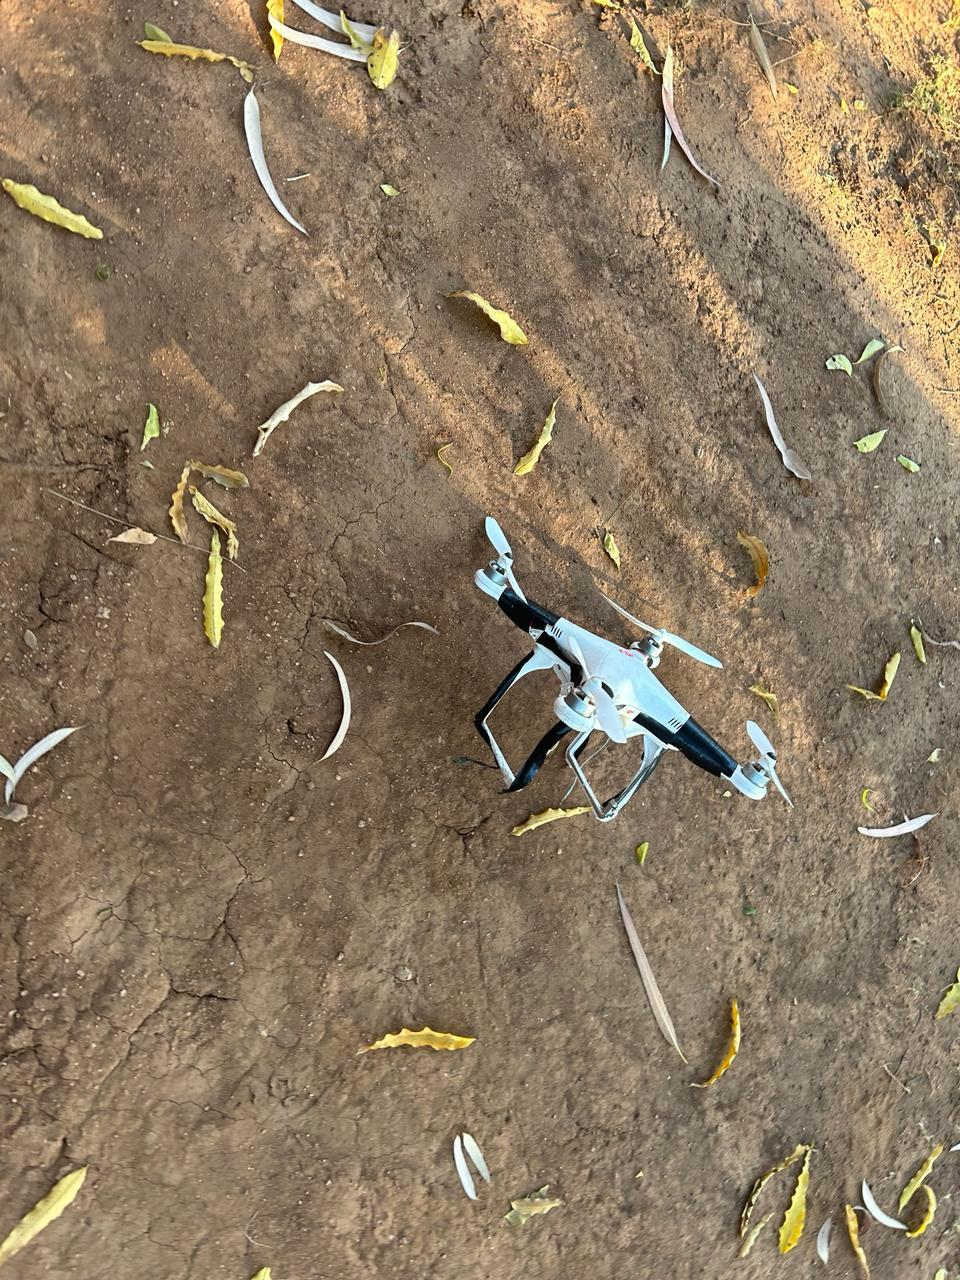drone: (439, 488, 799, 838)
